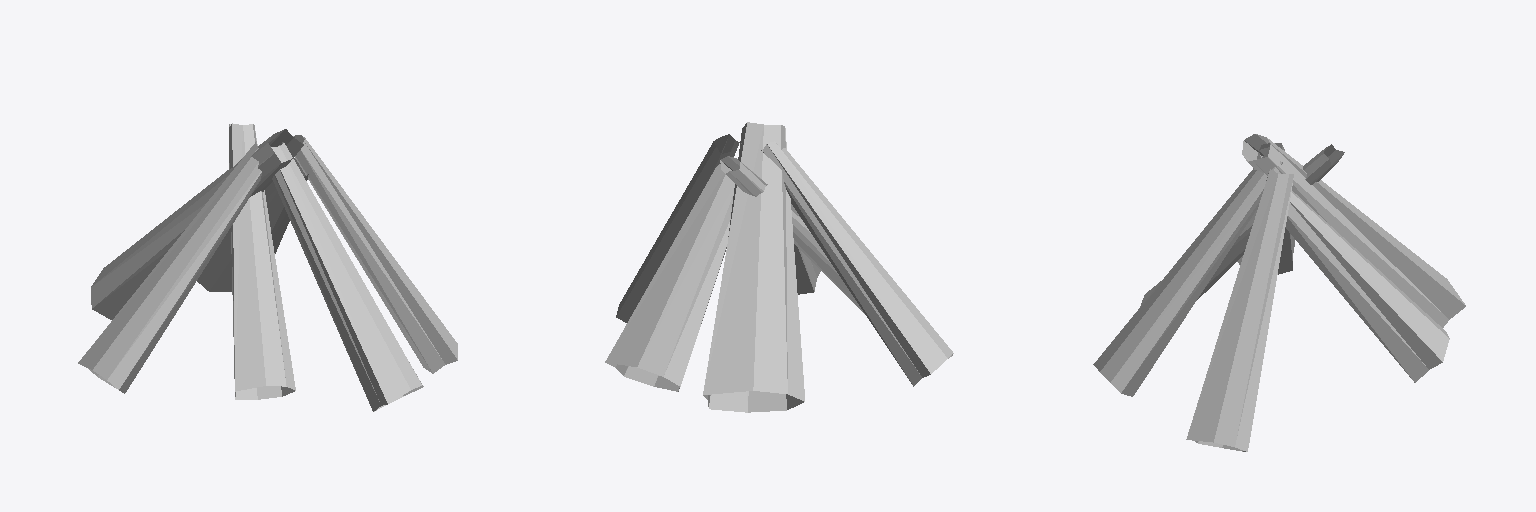
Rendered from campfire_wood.obj.
The picture shows the model from 3 angles: view 1: azimuth 30°, elevation 25°; view 2: azimuth 150°, elevation 25°; view 3: azimuth 270°, elevation 25°; orthographic projection.
Visible parts, largest first — view 1: pinetree01.007_Plane.003, pinetree01.005_Plane.003, pinetree01.006_Plane.003, pinetree01.009_Plane.003, pinetree01.004_Plane.003, pinetree01.003_Plane.003; view 2: pinetree01.004_Plane.003, pinetree01.003_Plane.003, pinetree01.005_Plane.003, pinetree01.009_Plane.003, pinetree01.006_Plane.003, pinetree01.007_Plane.003; view 3: pinetree01.009_Plane.003, pinetree01.007_Plane.003, pinetree01.003_Plane.003, pinetree01.004_Plane.003, pinetree01.006_Plane.003, pinetree01.005_Plane.003.
Part boxes in pixels (x1,y1,x2,y2): pinetree01.007_Plane.003: (271,142,423,411); pinetree01.005_Plane.003: (78,142,261,393); pinetree01.006_Plane.003: (229,123,295,399); pinetree01.009_Plane.003: (293,135,457,373); pinetree01.004_Plane.003: (91,129,303,319); pinetree01.003_Plane.003: (197,158,308,291); pinetree01.004_Plane.003: (703,122,804,412); pinetree01.003_Plane.003: (605,164,734,391); pinetree01.005_Plane.003: (761,141,953,386); pinetree01.009_Plane.003: (616,134,739,322); pinetree01.006_Plane.003: (720,156,864,313); pinetree01.007_Plane.003: (741,143,820,294); pinetree01.009_Plane.003: (1186,167,1293,451); pinetree01.007_Plane.003: (1093,150,1282,396); pinetree01.003_Plane.003: (1285,191,1449,382); pinetree01.004_Plane.003: (1242,134,1465,327); pinetree01.006_Plane.003: (1140,144,1344,306); pinetree01.005_Plane.003: (1237,143,1294,274).
Size of the model in its own units: 5.97 by 4.13 by 5.62.